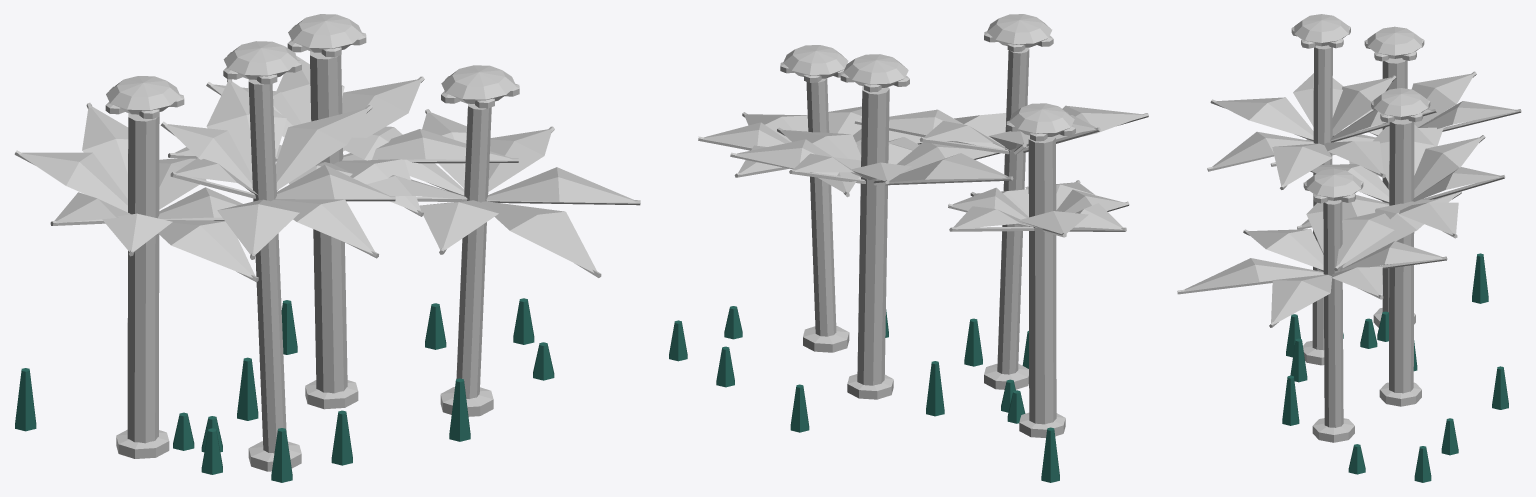
File: biomass_bower_c.obj
3 views of the same model, side by side, from view 1: azimuth 30°, elevation 25°; view 2: azimuth 150°, elevation 25°; view 3: azimuth 270°, elevation 25° (orthographic). The views are drawn at different scales.
Visible parts, largest first — view 1: trunk_0, trunk_1, trunk_2, trunk_3, frond_1_2, frond_3_2, frond_0_5, frond_0_1, frond_3_1, frond_2_1, frond_1_4, frond_0_2 (+35 smaller); view 2: trunk_2, trunk_0, trunk_1, trunk_3, frond_2_5, spore_head_3, spore_head_2, spore_head_1, spore_head_0, frond_2_1, frond_2_2, frond_3_0 (+26 smaller); view 3: trunk_2, trunk_3, trunk_1, frond_1_5, frond_3_2, frond_3_1, frond_2_6, frond_3_3, frond_2_2, frond_1_0, frond_1_3, frond_0_1 (+31 smaller).
Boxes of the visible parts, x1,y1,x2,y2 form: trunk_0: (127,113,159,443); trunk_1: (248,79,286,453); trunk_2: (310,51,347,393); trunk_3: (456,103,491,398); frond_1_2: (275,108,368,190); frond_3_2: (481,201,596,272); frond_0_5: (158,220,255,277); frond_0_1: (19,152,127,212); frond_3_1: (486,167,635,202); frond_2_1: (342,79,421,151); frond_1_4: (271,199,374,253); frond_0_2: (82,107,128,198); trunk_2: (857,86,889,385); trunk_0: (1028,135,1056,424); trunk_1: (997,47,1029,374); trunk_3: (806,78,836,336); frond_2_5: (889,153,1007,182); spore_head_3: (783,45,848,78); spore_head_2: (843,54,908,87); spore_head_1: (987,14,1051,47); spore_head_0: (1009,103,1074,136); frond_2_1: (735,139,860,179); frond_2_2: (780,130,861,160); frond_3_0: (703,122,790,147); trunk_2: (1389,119,1414,393); trunk_3: (1323,200,1343,427); trunk_1: (1312,45,1332,350); frond_1_5: (1214,97,1313,139); frond_3_2: (1183,258,1324,291); frond_3_1: (1271,274,1331,323); frond_2_6: (1414,137,1482,197); frond_3_3: (1246,229,1323,270); frond_2_2: (1336,212,1396,266); frond_1_0: (1332,77,1393,135); frond_1_3: (1272,143,1332,186); frond_0_1: (1411,74,1473,127).
Bounding box in the file's own units: 7.73 × 6.05 × 5.64.
